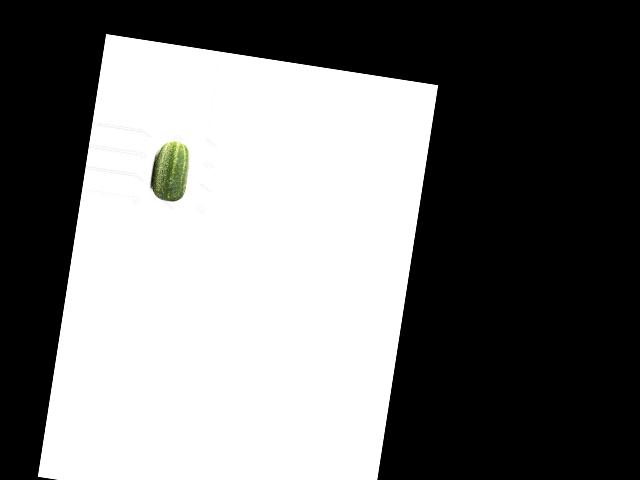cucumber: (148, 139, 192, 204)
